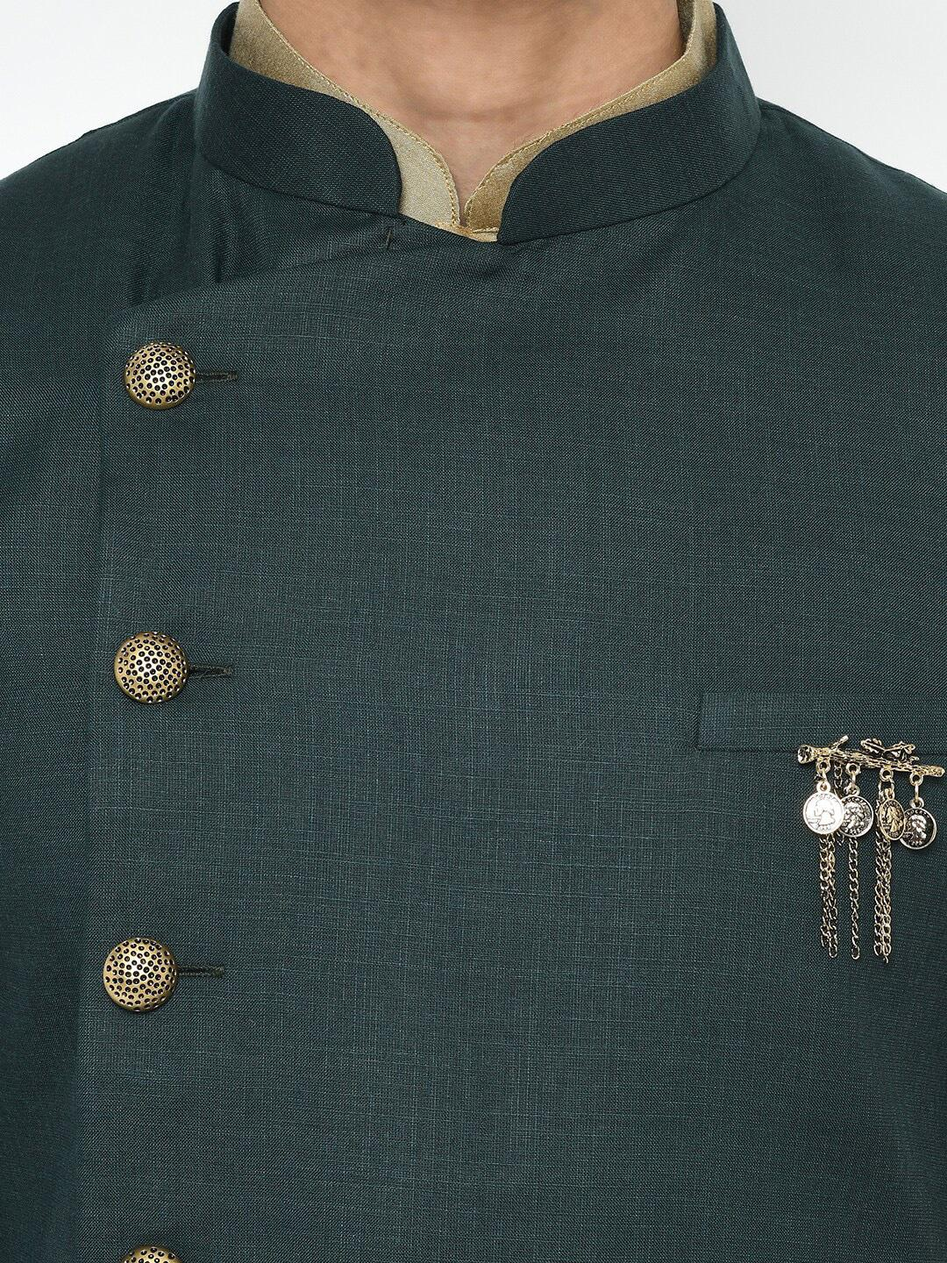Plain sherwani: (4, 2, 944, 1252)
